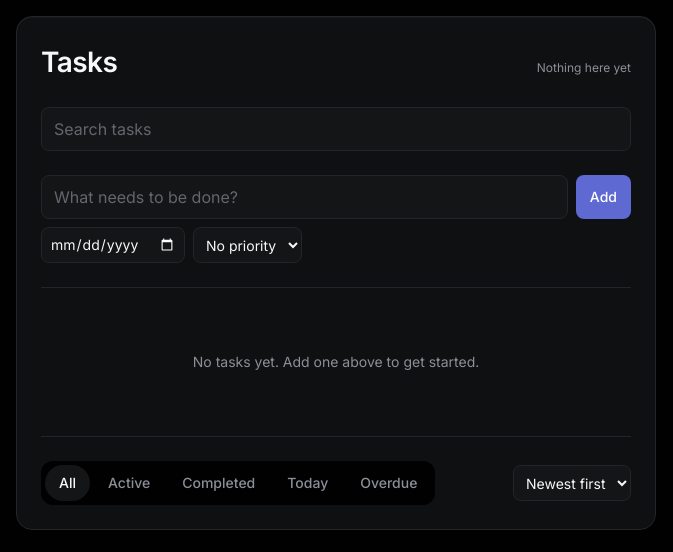
todo app › shows the newest task first
This screenshot has width=673, height=552.
Type "First" into the field named "New task". click: point(304, 197)
box: [41,175,568,219]
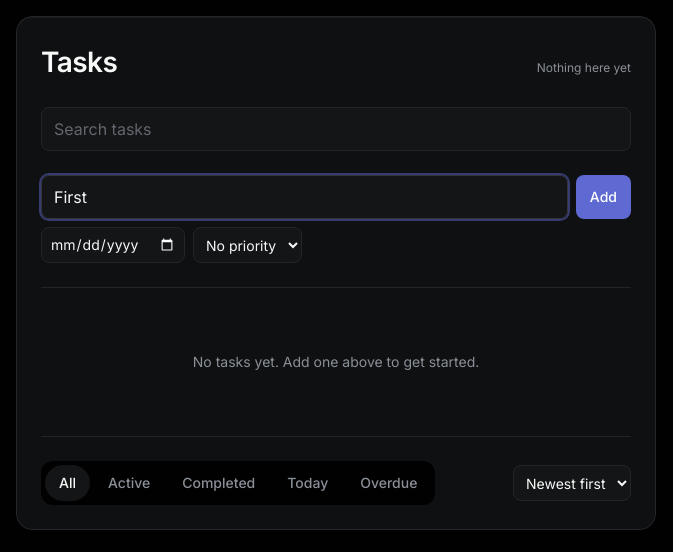
Click the button "Add". click: point(603, 197)
box: [576,175,631,219]
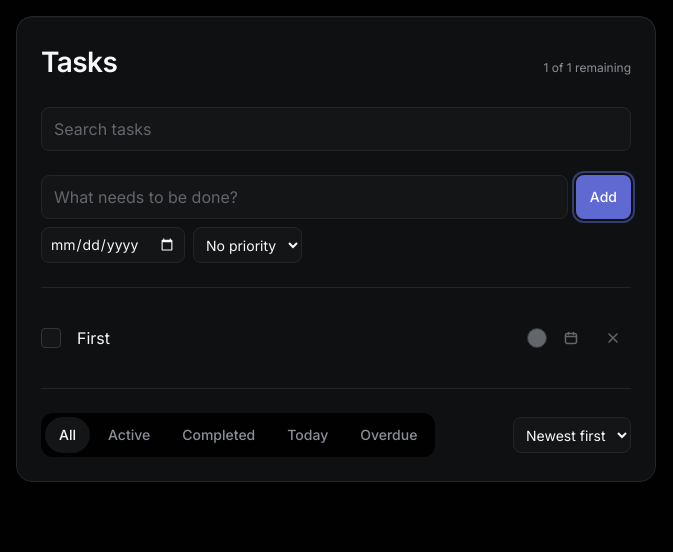
Type "Second" into the field named "New task". click: point(304, 197)
box: [41,175,568,219]
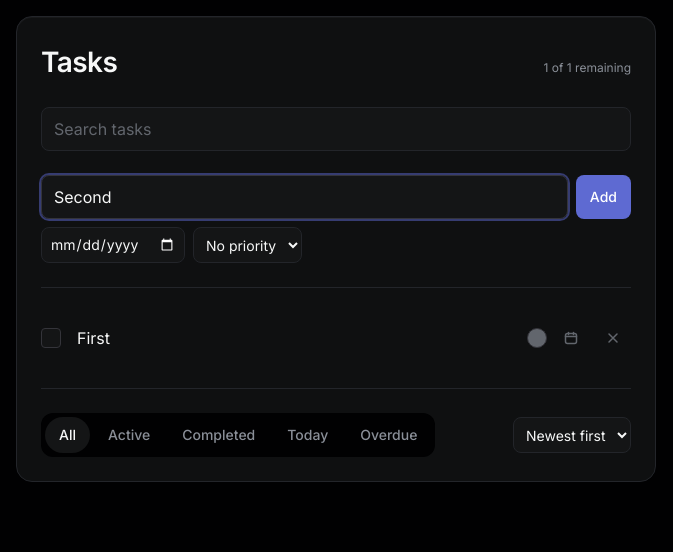
Click the button "Add". click: point(603, 197)
box: [576,175,631,219]
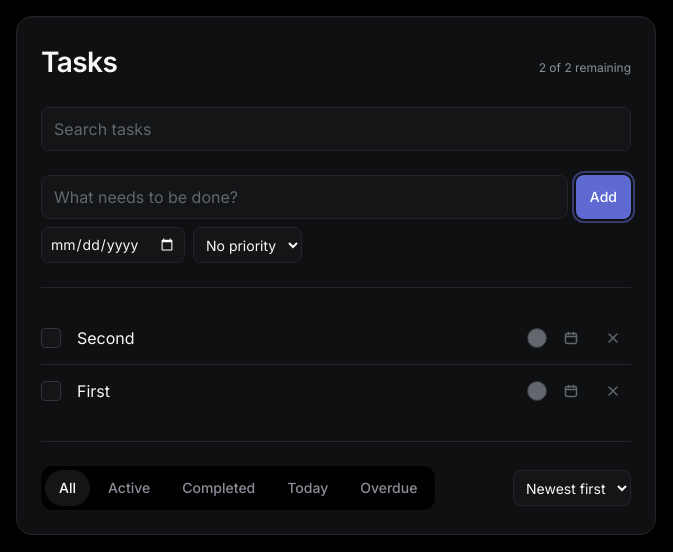
Expected: the list item "Second" is shown, [41,312,631,365]
